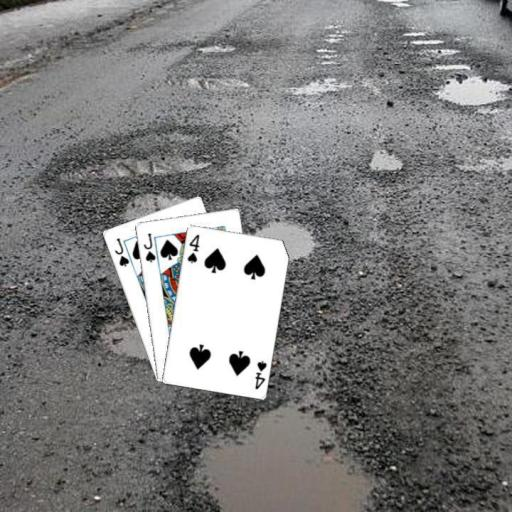card-corner: (111, 235, 130, 268), (140, 230, 157, 264), (184, 231, 200, 265), (252, 357, 268, 390)
